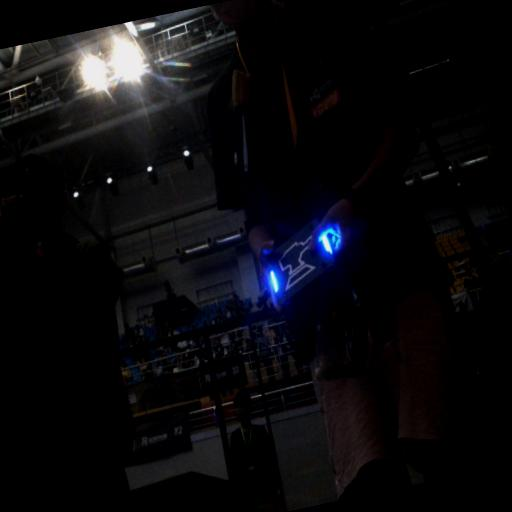target: (258, 221, 348, 304)
